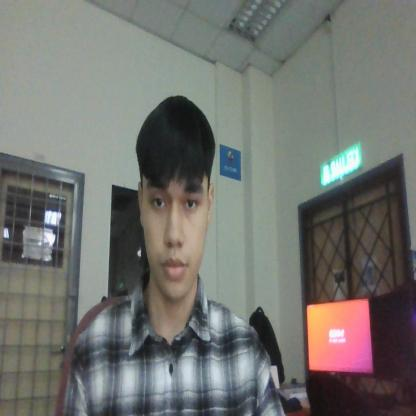Open-Eyes: (144, 176, 205, 222)
